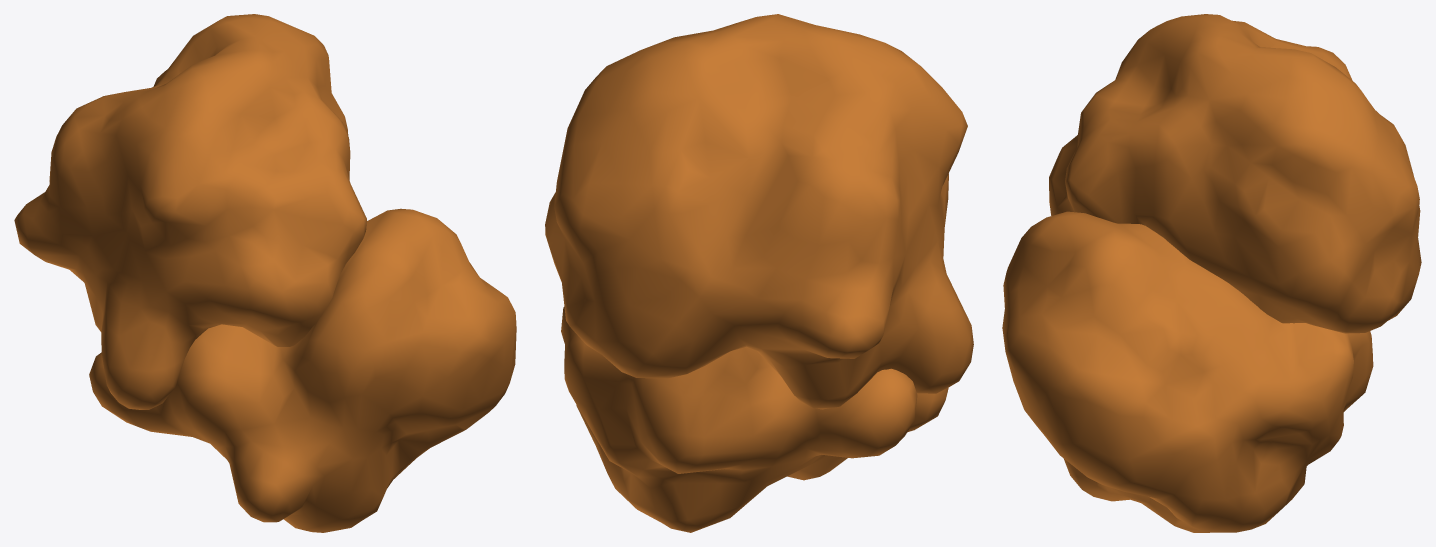
Rendered from i2tsc_63kD.fbx.
The picture shows the model from 3 angles, left to right: view 1: azimuth 30°, elevation 25°; view 2: azimuth 150°, elevation 25°; view 3: azimuth 270°, elevation 25°; orthographic projection. The views are drawn at different scales.
Parts seen in each view (by area): view 1: CoarseMS_2tsc_Selection1, CoarseMS_2tsc_Selection0; view 2: CoarseMS_2tsc_Selection1, CoarseMS_2tsc_Selection0; view 3: CoarseMS_2tsc_Selection0, CoarseMS_2tsc_Selection1.
Boxes of the visible parts, bbox=[...] form: CoarseMS_2tsc_Selection1: bbox=[14, 14, 366, 409]; CoarseMS_2tsc_Selection0: bbox=[89, 208, 516, 532]; CoarseMS_2tsc_Selection1: bbox=[545, 14, 973, 409]; CoarseMS_2tsc_Selection0: bbox=[561, 307, 948, 532]; CoarseMS_2tsc_Selection0: bbox=[1002, 211, 1373, 532]; CoarseMS_2tsc_Selection1: bbox=[1049, 14, 1421, 333].
Size of the model in its own units: 59.65 by 70.03 by 58.02.
